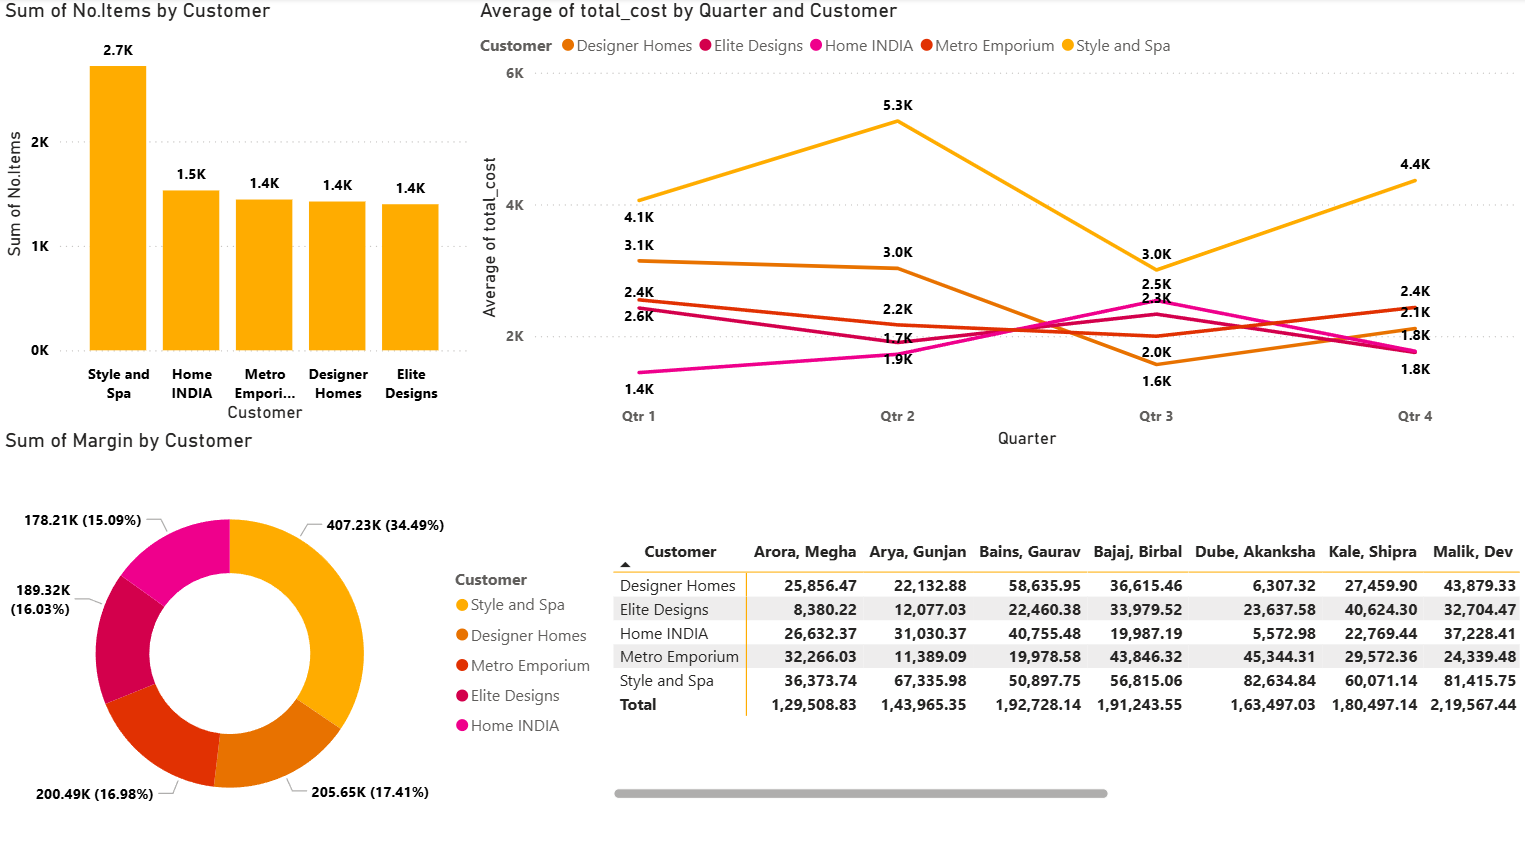

This screenshot's page, from the dashboard's own definition file:
{"tool":"powerbi","page":{"name":"Page 2","canvas":[1280,720],"ordinal":1},"visuals":[{"type":"clusteredColumnChart","fields":{"Y":["Sum(Raw_Data.No.Items)"],"Category":["Raw_Data.Customer"]},"box":[0,0,400,360.5],"z":0},{"type":"donutChart","fields":{"Category":["Raw_Data.Customer"],"Y":["Sum(Raw_Data.Margin)"]},"box":[0,360.9,510.5,359.5],"z":1000},{"type":"pivotTable","fields":{"Rows":["Raw_Data.Customer"],"Columns":["Raw_Data.Salesperson"],"Values":["Sum(Raw_Data.total_cost)"]},"box":[510.5,447.7,769.8,229.1],"z":2000},{"type":"lineChart","fields":{"Category":["Raw_Data.Date.Variation.Date Hierarchy.Quarter"],"Y":["Avg(Raw_Data.total_cost)"],"Series":["Raw_Data.Customer"]},"box":[398.8,0,881.4,382.6],"z":3000}]}

Visuals, with their boxes in screenshot pixels (x1, y1, x2, y2), scaled from the page's 1280x720 canvas onto the 1525x854 screenshot:
clusteredColumnChart - Sum(Raw_Data.No.Items) x Raw_Data.Customer: bbox(0, 0, 477, 428)
donutChart - Raw_Data.Customer x Sum(Raw_Data.Margin): bbox(0, 428, 608, 853)
pivotTable - Raw_Data.Customer x Raw_Data.Salesperson: bbox(608, 531, 1524, 803)
lineChart - Raw_Data.Date.Variation.Date Hierarchy.Quarter x Avg(Raw_Data.total_cost): bbox(475, 0, 1524, 454)
